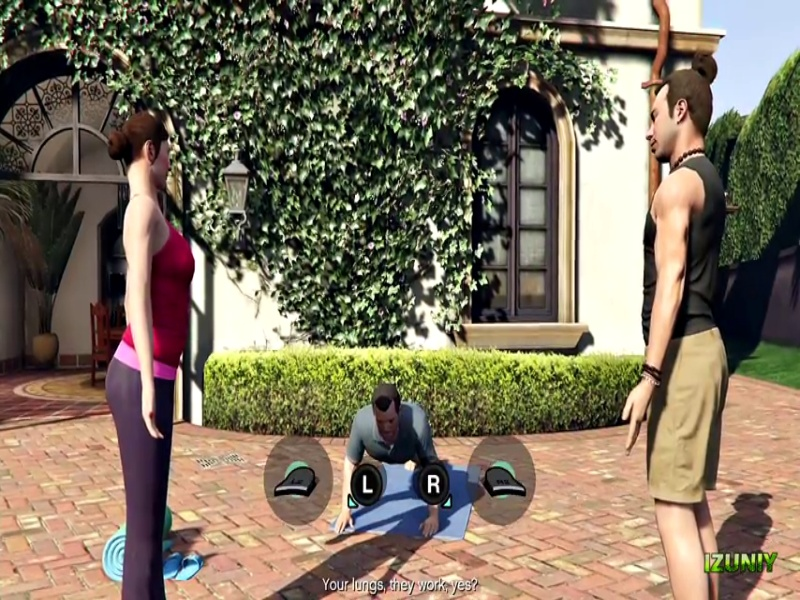human: (344, 382, 466, 530)
